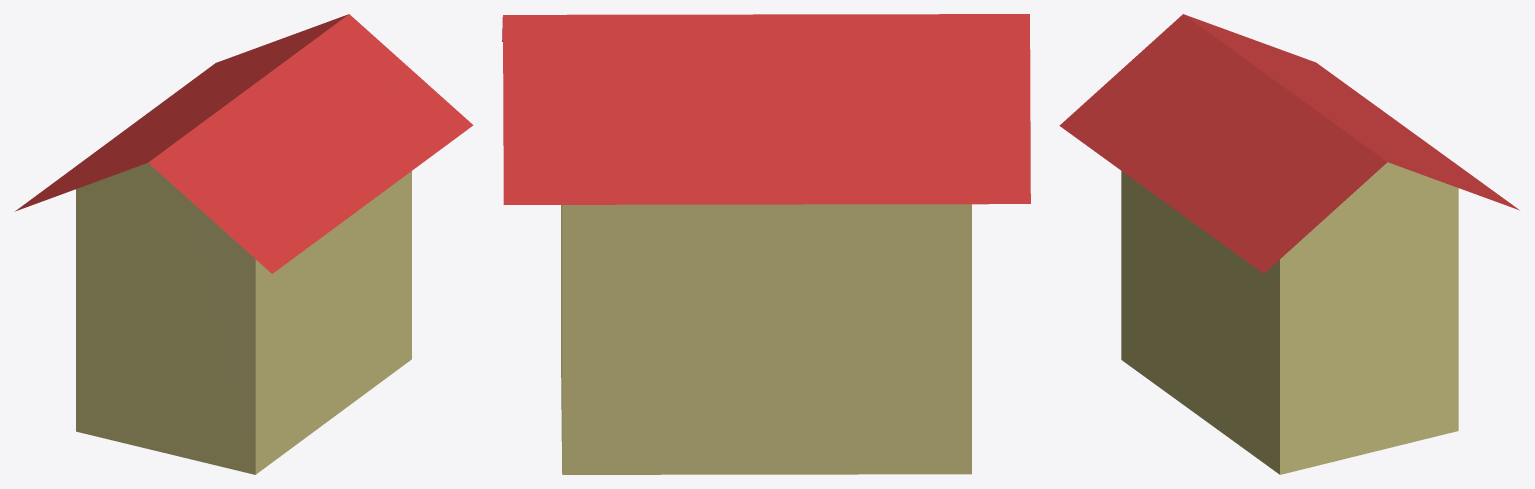
The picture shows the model from 3 angles, left to right: view 1: azimuth 30°, elevation 25°; view 2: azimuth 150°, elevation 25°; view 3: azimuth 270°, elevation 25°; orthographic projection. The views are drawn at different scales.
Bounding box in the file's own units: 11.07 × 10.21 × 7.53.
